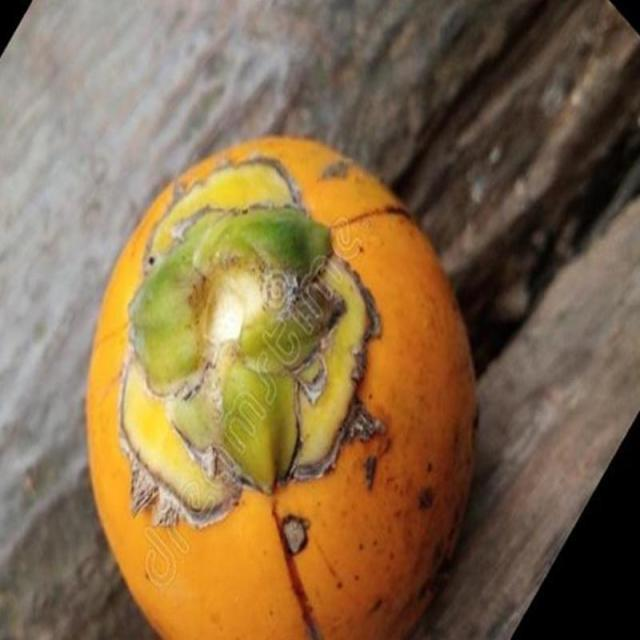good: (86, 137, 478, 639)
